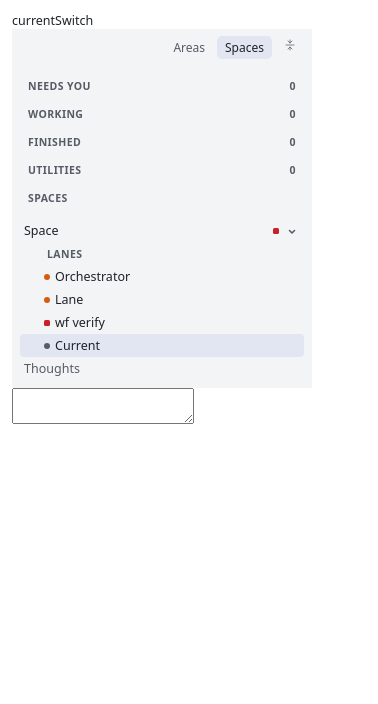
control hooks expose a row menu without acting and open detail without selecting
Right-click the button with class "select-tab" showing "Lane" at (172, 300), box [44, 288, 300, 311]
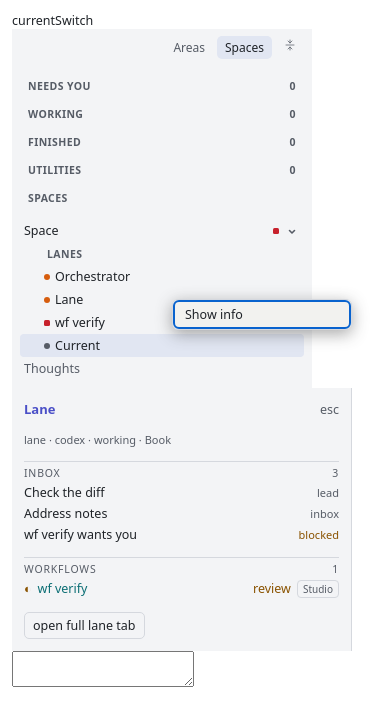
Expected: the text "current" is shown, [12, 12, 55, 29]
Expected: the menu reads "Show info", [173, 300, 351, 329]
Expected: the element named "Lane details" shows "Check the diff", [24, 484, 105, 501]
